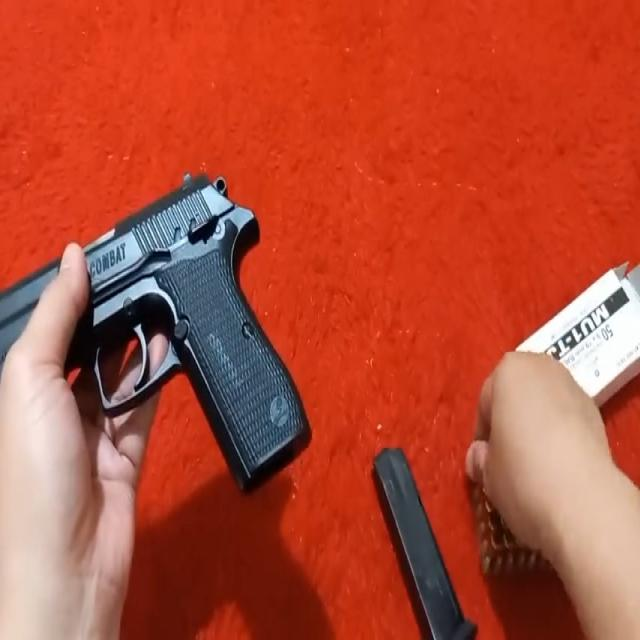handgun: (29, 157, 314, 504)
